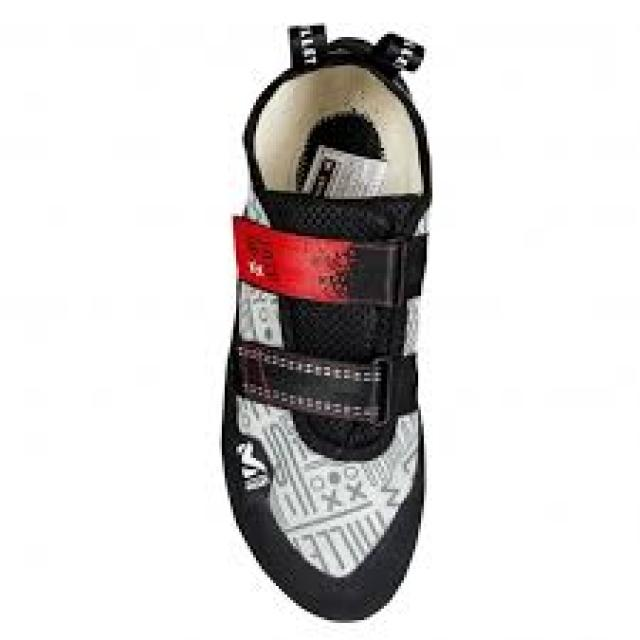climbing-shoes: (221, 19, 431, 622)
